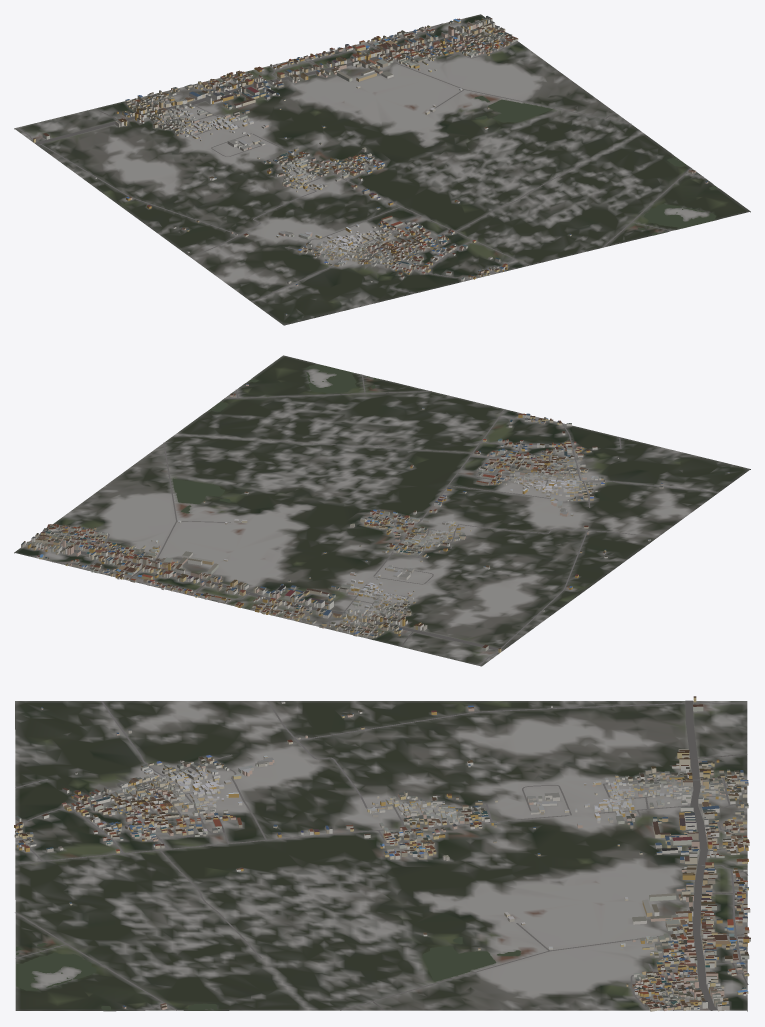
3 views of the same model, one above another, from view 1: azimuth 30°, elevation 25°; view 2: azimuth 150°, elevation 25°; view 3: azimuth 270°, elevation 25° (orthographic). The views are drawn at different scales.
Visible parts, largest first — view 1: ground, buildings, roads, water; view 2: ground, buildings, roads, water; view 3: ground, buildings, roads, water.
Part boxes in pixels (x1,y1,x2,y2): ground: (14,14,750,325); buildings: (33,16,708,315); roads: (17,23,703,302); water: (474,96,716,235); ground: (14,355,750,666); buildings: (21,384,729,652); roads: (26,374,718,665); water: (172,364,379,513); ground: (15,701,747,1011); buildings: (14,696,750,1011); roads: (15,700,748,1010); water: (16,937,520,1010).
Bounding box in the file's own units: 1407 × 24.06 × 1411.
